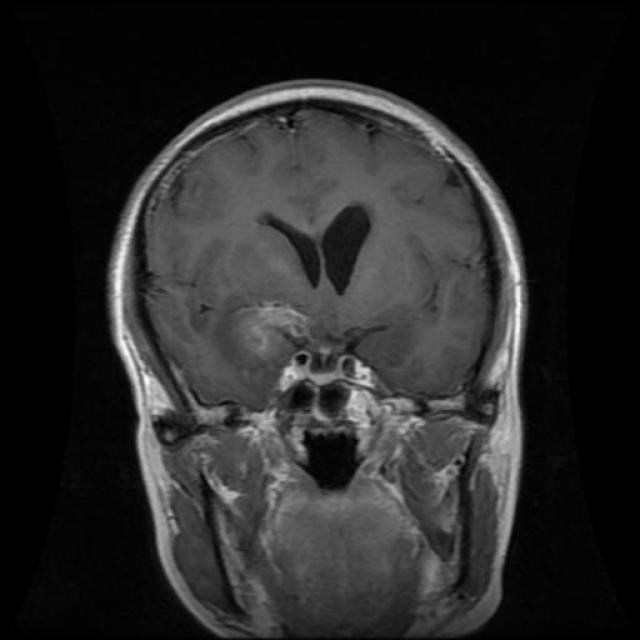glioma: (257, 200, 383, 309)
